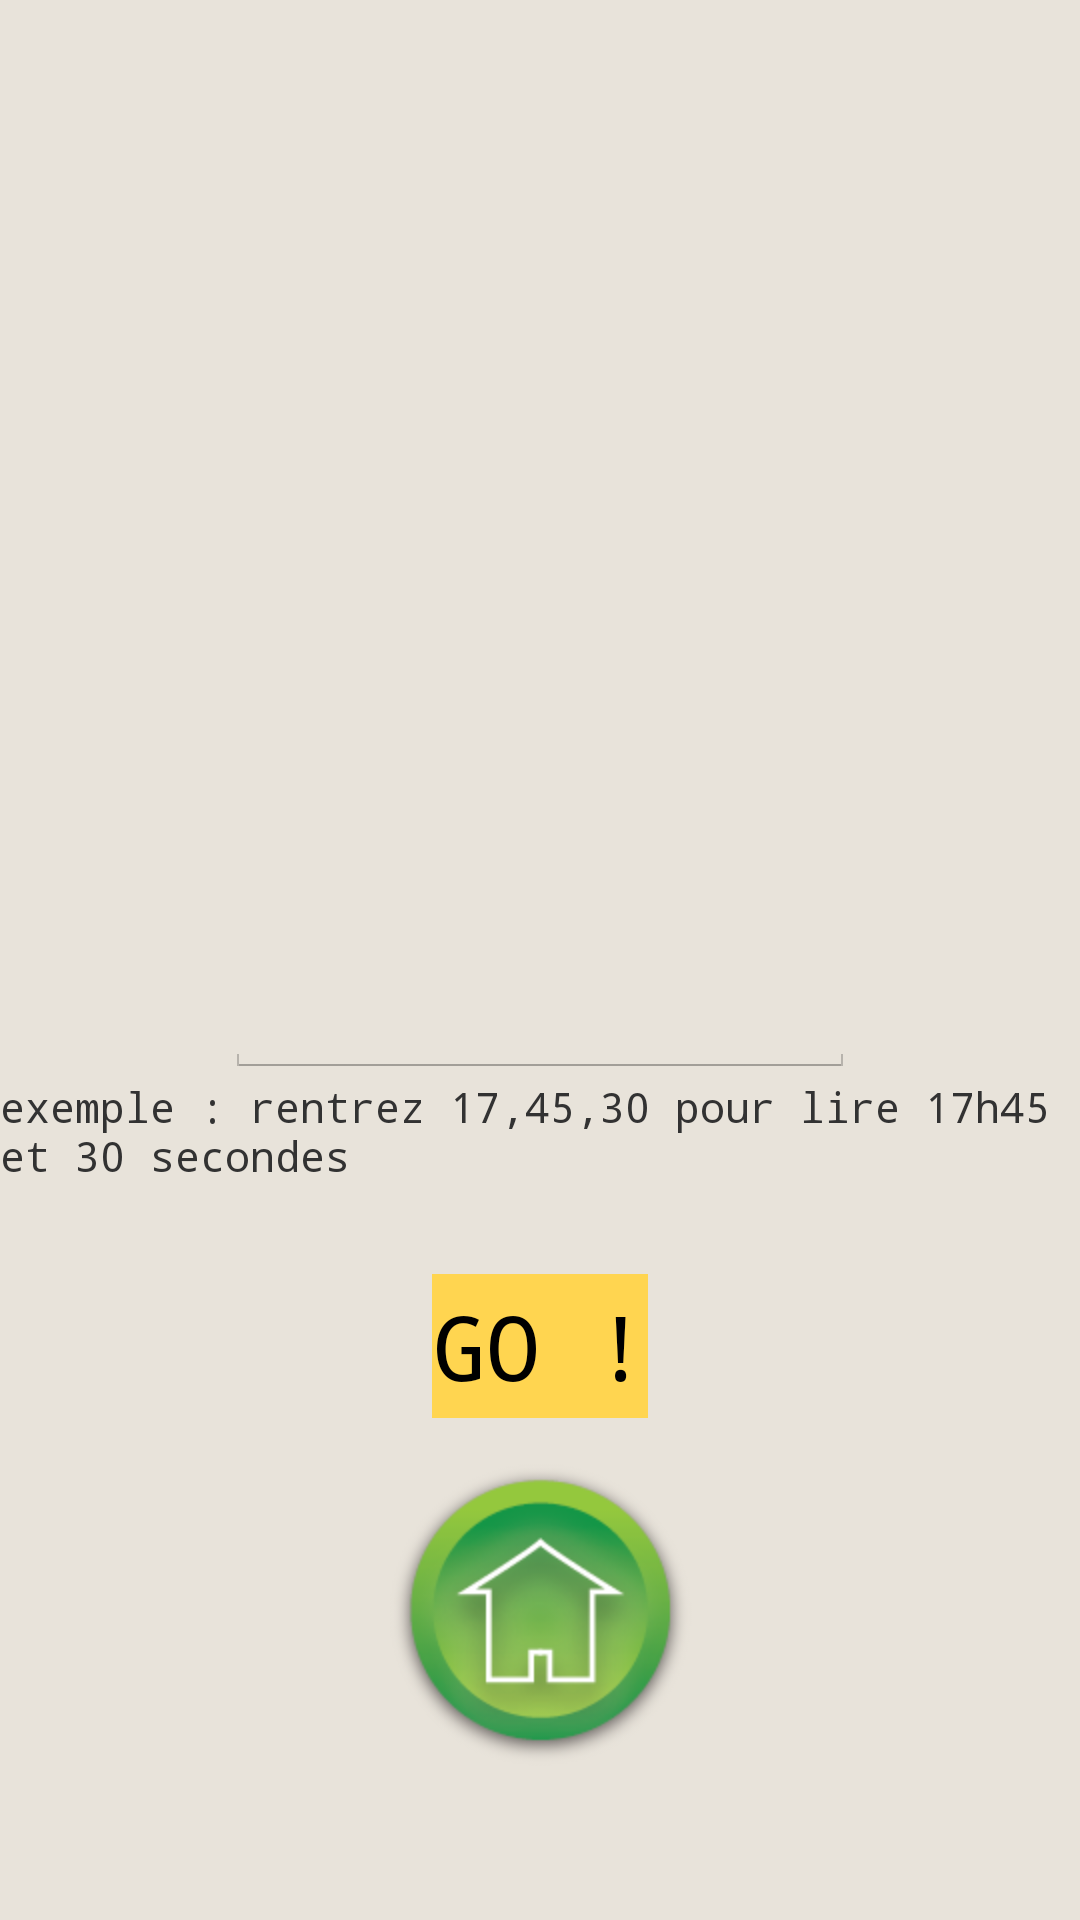

Icons on this 1080×1920 Android screen, each with the point to tap as (x,y):
home: (540,1614)
